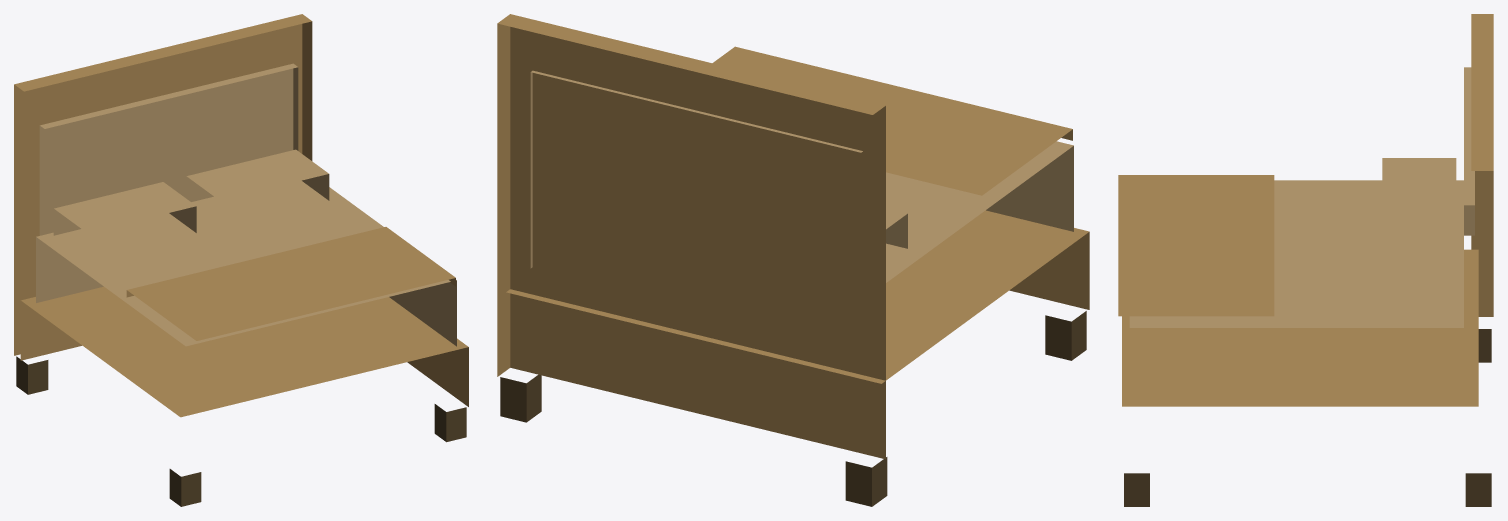
The model's file is Bed-oak.glb.
3 views of the same model, side by side, from view 1: azimuth 30°, elevation 25°; view 2: azimuth 150°, elevation 25°; view 3: azimuth 270°, elevation 25° (orthographic). The views are drawn at different scales.
Visible parts, largest first — view 1: Bed; view 2: Bed; view 3: Bed.
Boxes of the visible parts, <box> form: Bed: <box>14,14,468,506</box>; Bed: <box>497,14,1089,506</box>; Bed: <box>1118,14,1493,506</box>.
Bounding box in the file's own units: 1 × 1 × 1.01.
